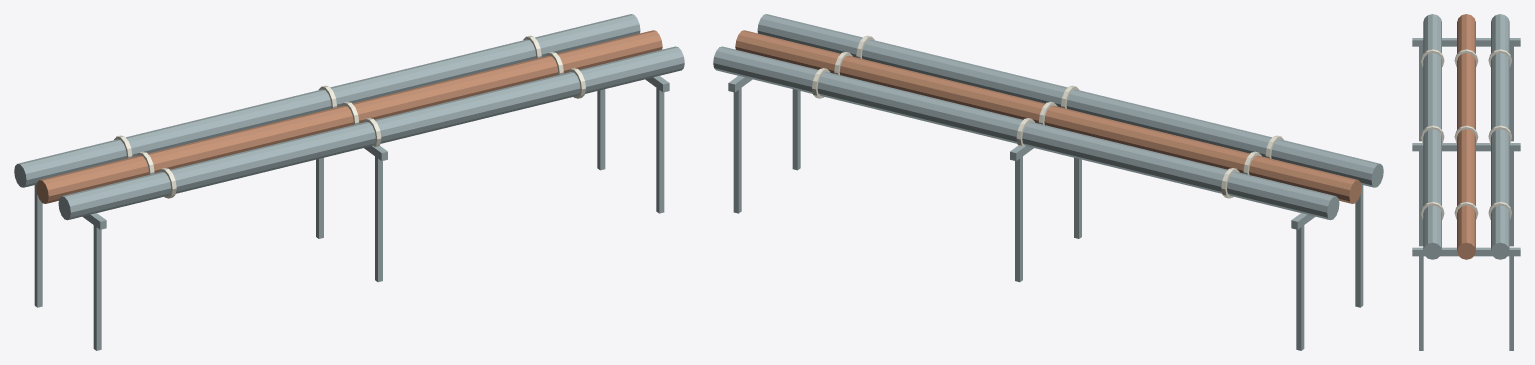
3 renders of one model, left to right at view 1: azimuth 30°, elevation 25°; view 2: azimuth 150°, elevation 25°; view 3: azimuth 270°, elevation 25°, orthographic. The views are drawn at different scales.
Bounding box in the file's own units: 24 × 5.82 × 4.8.
